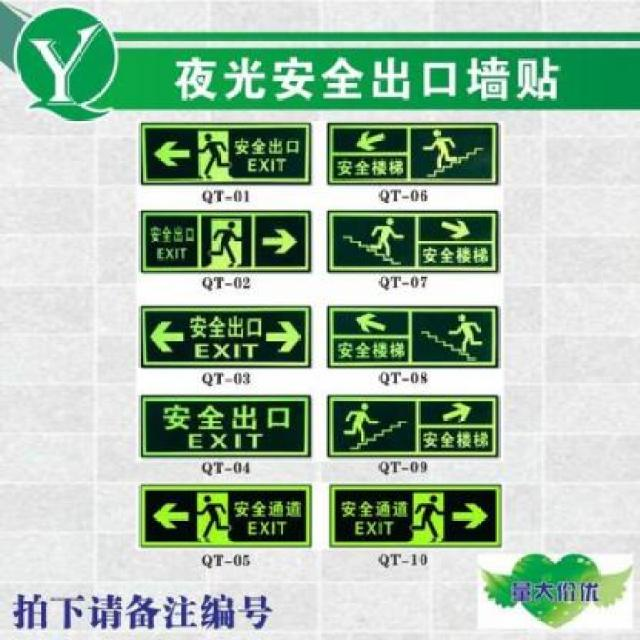exit_sign: (132, 389, 314, 461), (331, 120, 505, 192), (140, 478, 314, 550), (328, 482, 504, 548), (140, 206, 315, 272), (328, 210, 502, 276), (138, 118, 314, 181), (330, 303, 502, 365), (140, 306, 308, 369), (323, 394, 499, 454)
